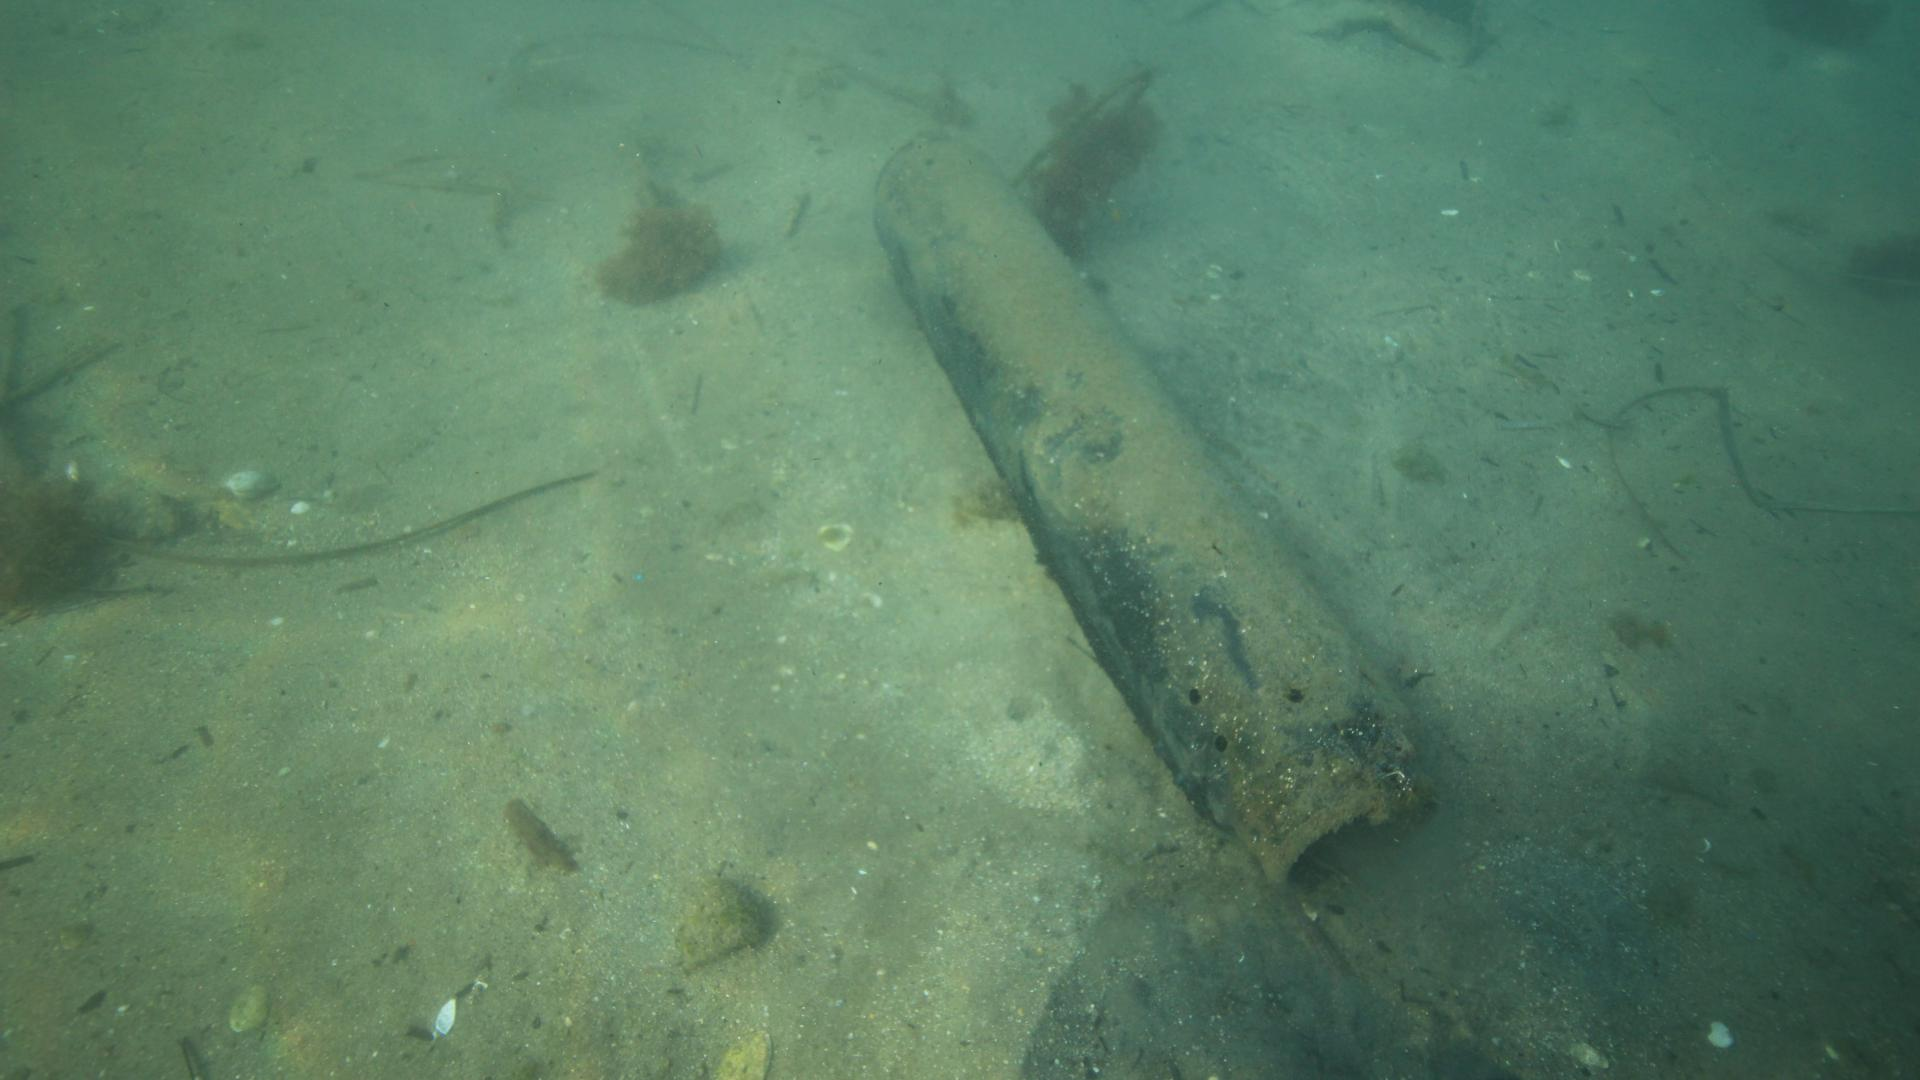eel fish trap: (866, 131, 1414, 890)
